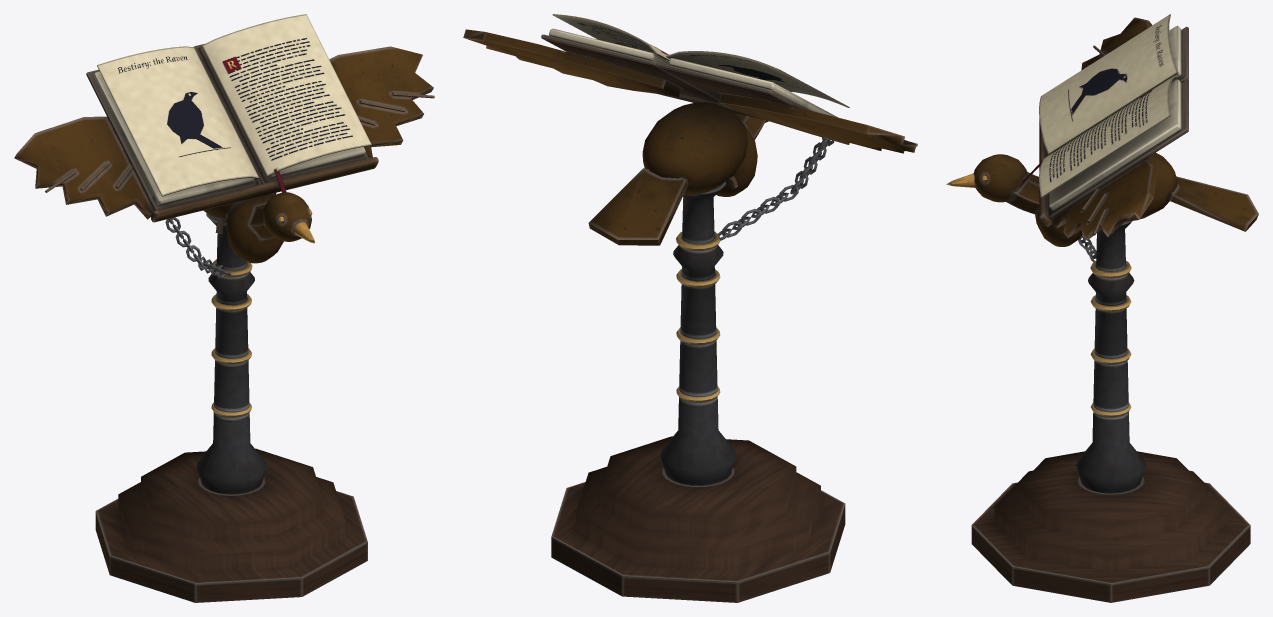
File: Lectern.fbx
The picture shows the model from 3 angles, left to right: view 1: azimuth 30°, elevation 25°; view 2: azimuth 150°, elevation 25°; view 3: azimuth 270°, elevation 25°; orthographic projection. The views are drawn at different scales.
Parts seen in each view (by area): view 1: Lectern; view 2: Lectern; view 3: Lectern.
Boxes of the visible parts, x1=… form: Lectern: x1=14, y1=14, x2=434, y2=602; Lectern: x1=463, y1=14, x2=917, y2=602; Lectern: x1=946, y1=14, x2=1258, y2=602.
Size of the model in its own units: 400 by 457 by 269.
